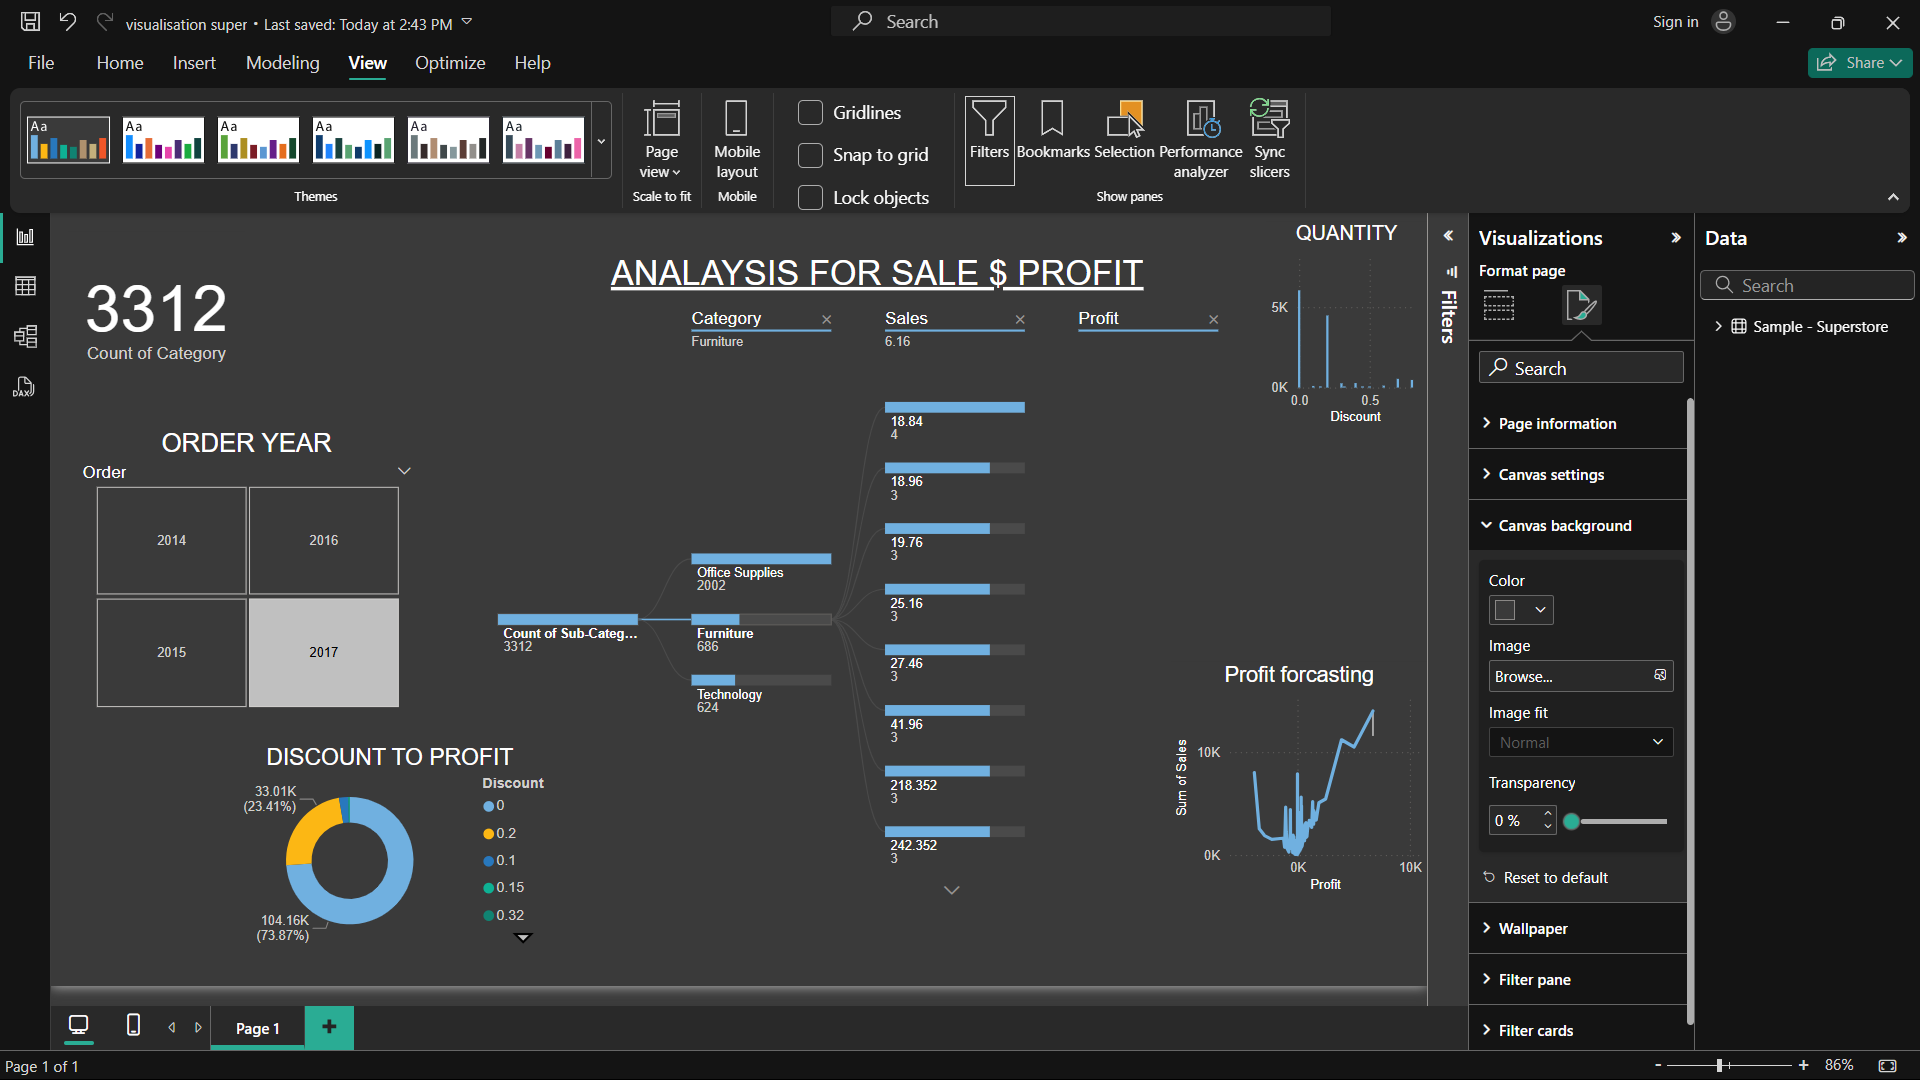

The dashboard page shown, as its layout file describes it:
{"tool":"powerbi","page":{"name":"Page 1","canvas":[1280,720],"ordinal":0},"visuals":[{"type":"card","fields":{"Values":["CountNonNull(Sample - Superstore.Category)"]},"box":[16.3,17.4,164,151.2],"z":0},{"type":"decompositionTreeVisual","title":"ANALAYSIS FOR SALE $ PROFIT","fields":{"Analyze":["CountNonNull(Sample - Superstore.Sub-Category)"],"ExplainBy":["Sample - Superstore.Category","Sample - Superstore.Sales","Sample - Superstore.Profit"]},"box":[386,38.4,765.1,620.9],"z":1000},{"type":"slicer","title":"ORDER YEAR","fields":{"Values":["Sample - Superstore.Order Date.3"]},"box":[16.3,201.2,331.4,265.1],"z":2000},{"type":"donutChart","title":"DISCOUNT TO PROFIT ","fields":{"Category":["Sample - Superstore.Discount"],"Y":["Sum(Sample - Superstore.Profit)"]},"box":[150,494.2,330.2,193],"z":3000},{"type":"lineChart","title":"Profit forcasting","fields":{"Y":["Sum(Sample - Superstore.Sales)"],"Category":["Sample - Superstore.Profit"]},"box":[1041.9,417.4,238.4,218.6],"z":4000},{"type":"columnChart","title":"QUANTITY","fields":{"Y":["Sum(Sample - Superstore.Quantity)"],"Category":["Sample - Superstore.Discount"]},"box":[1130.2,8.1,150,193],"z":5000}]}

Visuals, with their boxes on the page's 1280x720 design canvas (x1, y1, x2, y2). These are canvas units, not pixel positions in the 1920x1080 screenshot, which may show the page scaled, cropped or inside an application window:
card - CountNonNull(Sample - Superstore.Category): [x1=16, y1=17, x2=180, y2=169]
"ANALAYSIS FOR SALE $ PROFIT" decompositionTreeVisual: [x1=386, y1=38, x2=1151, y2=659]
"ORDER YEAR" slicer: [x1=16, y1=201, x2=348, y2=466]
"DISCOUNT TO PROFIT " donutChart: [x1=150, y1=494, x2=480, y2=687]
"Profit forcasting" lineChart: [x1=1042, y1=417, x2=1280, y2=636]
"QUANTITY" columnChart: [x1=1130, y1=8, x2=1280, y2=201]
